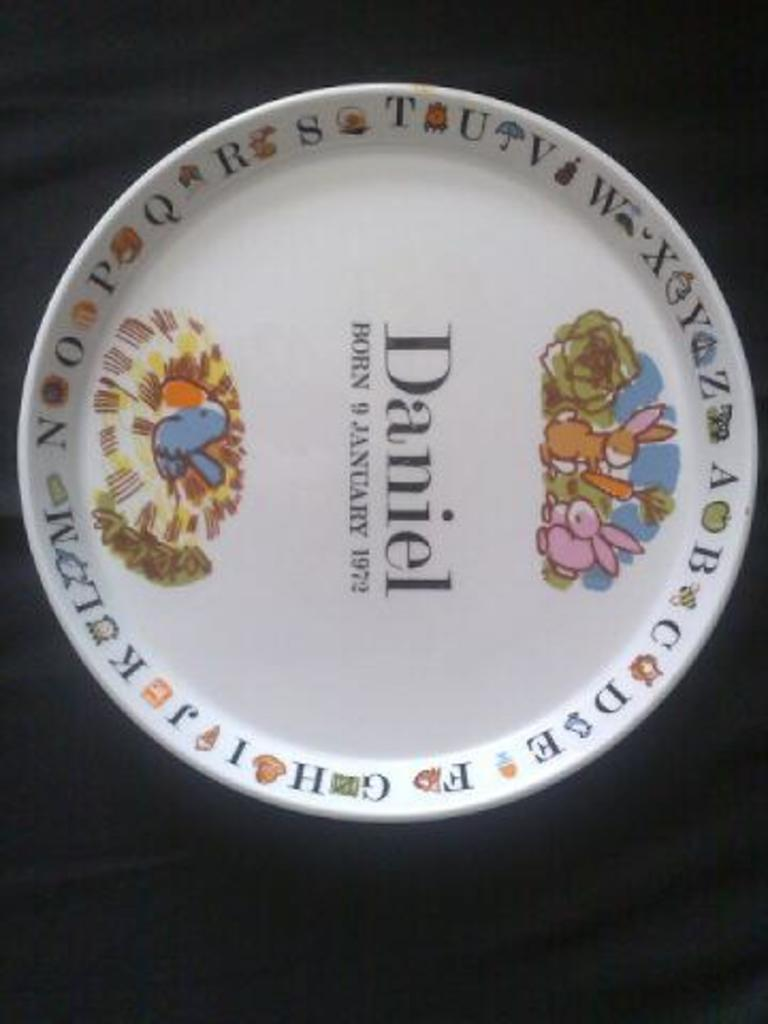plate: (17, 55, 750, 849)
